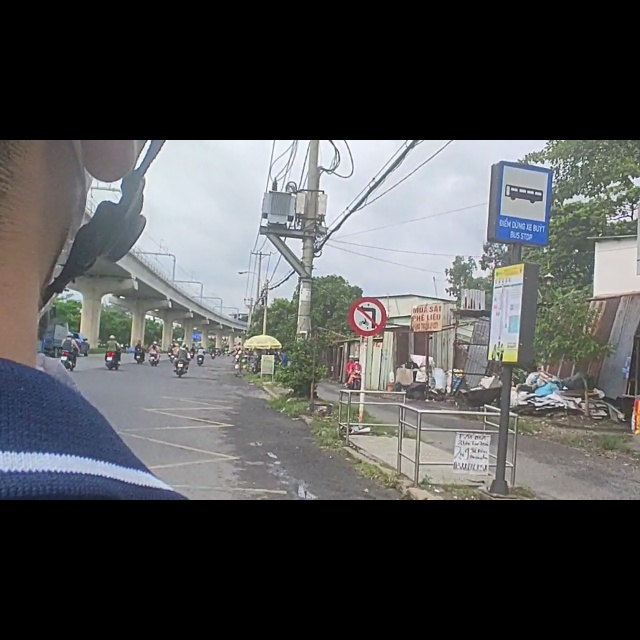bien_cam: (491, 37, 550, 188), (347, 277, 387, 346)
